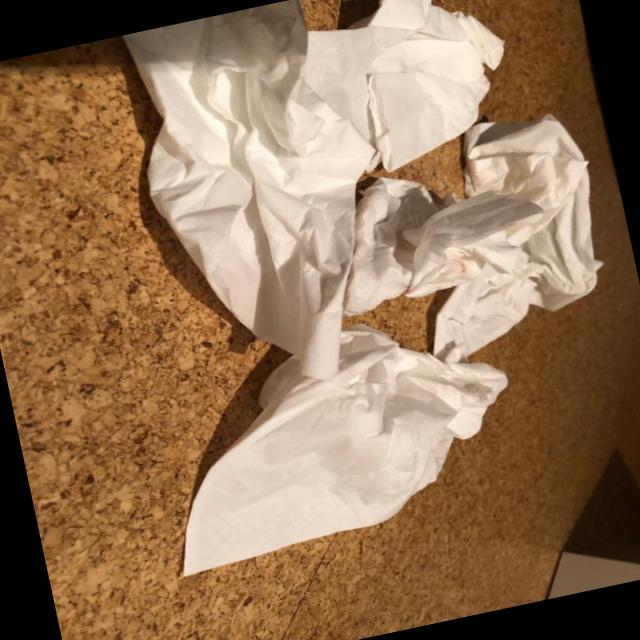organic waste: (110, 0, 423, 417), (137, 289, 536, 581), (382, 93, 640, 369), (317, 144, 560, 322), (293, 0, 522, 186)
